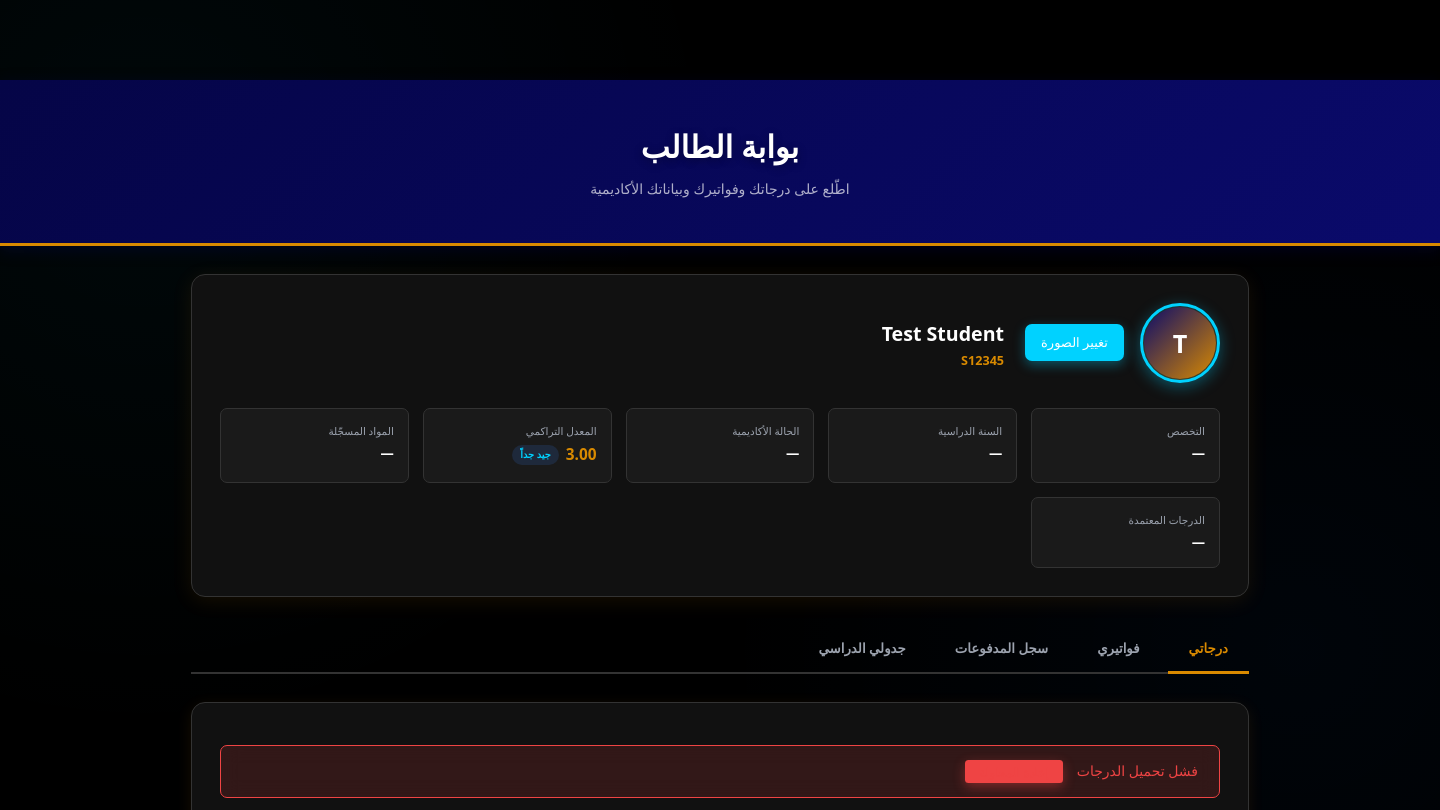
Task 2.2: Invoices Tab Preservation › Property 2.2.3: Invoice status renders correctly for all status types
expect the heading "Test Student" is shown: met, box [882,318,1004,349]
Click on Invoices tab
Click the button "فواتيري" at (1118, 650), box [1076,625,1161,674]
(page scrolled)
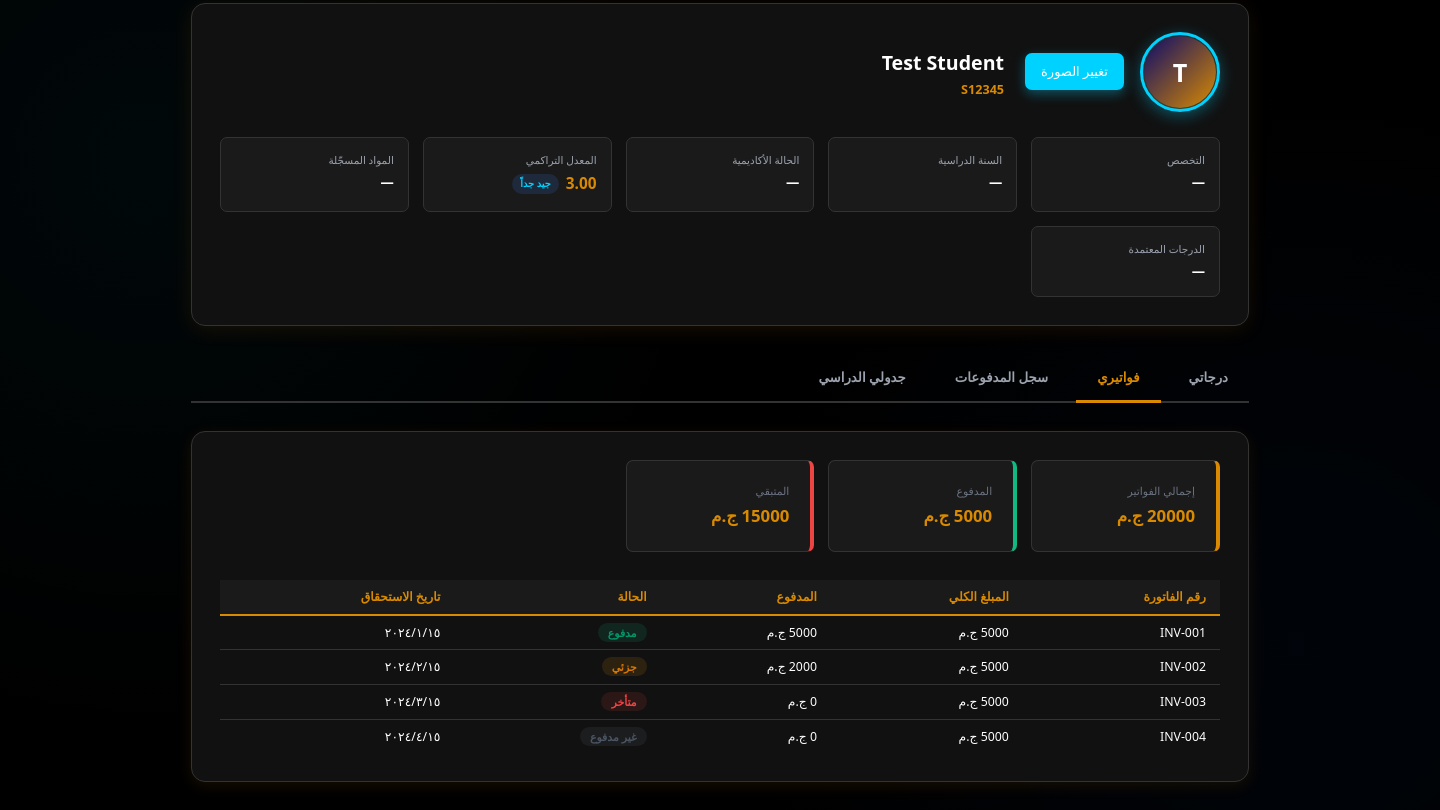
expect the column heading "رقم الفاتورة" is shown: met, box [1023,580,1220,615]
expect the text "مدفوع" is shown: met, box [598,623,647,642]
expect the text "جزئي" is shown: met, box [602,657,647,676]
